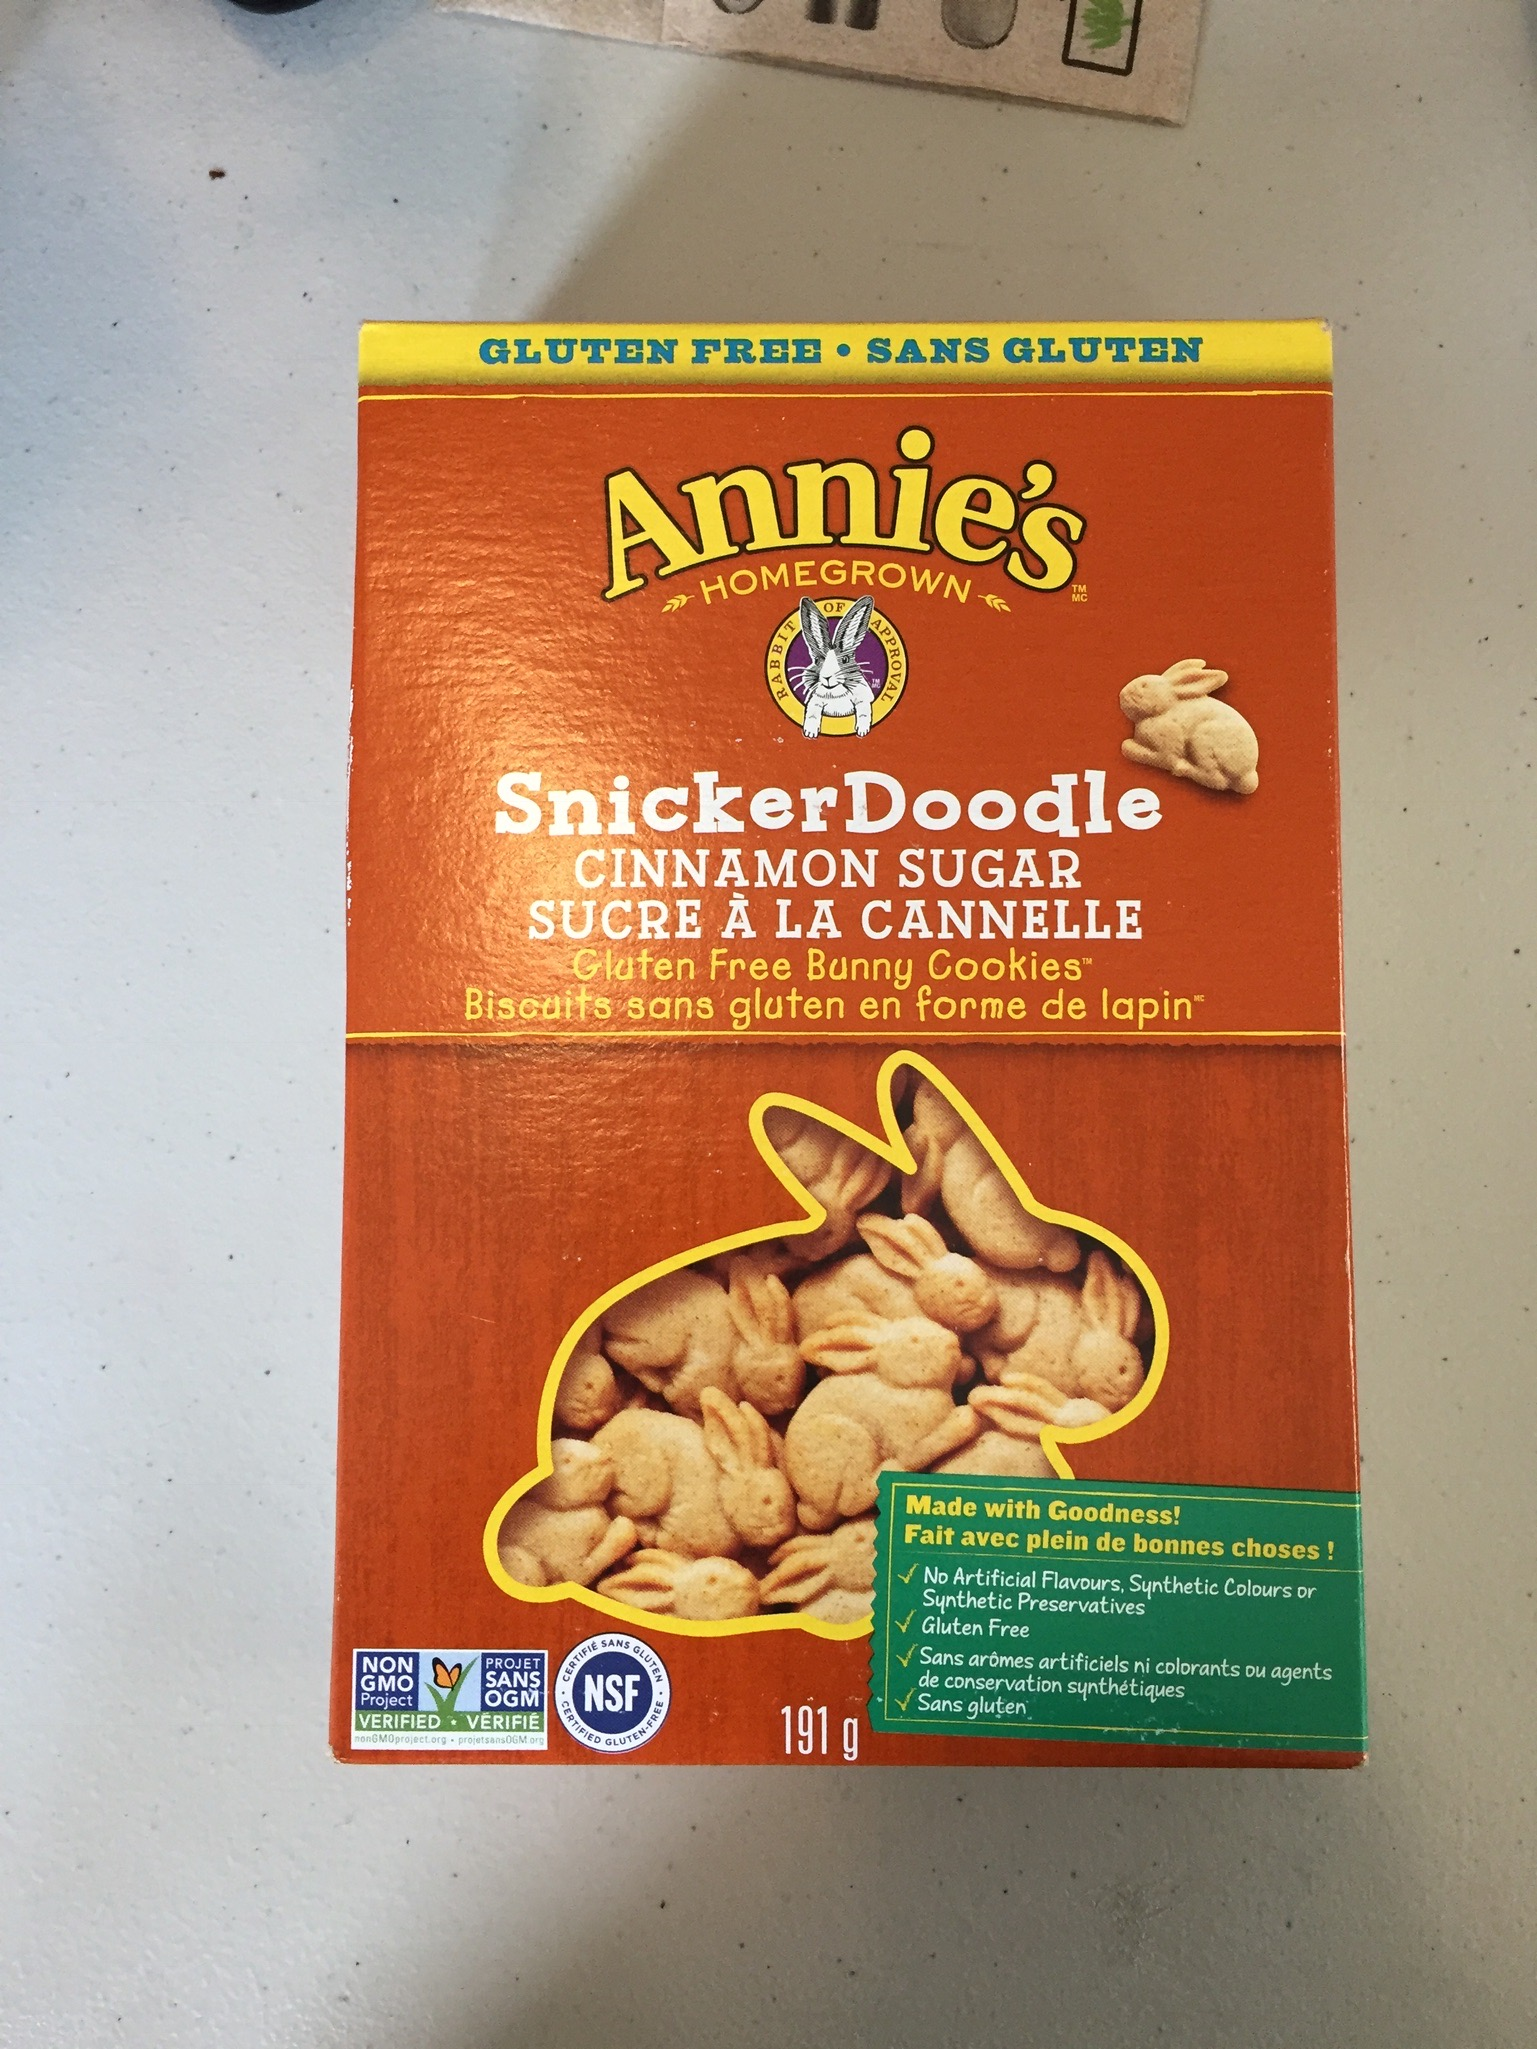annies_snickerdoodles_cinnamon_sugar: (371, 326, 1355, 1763)
